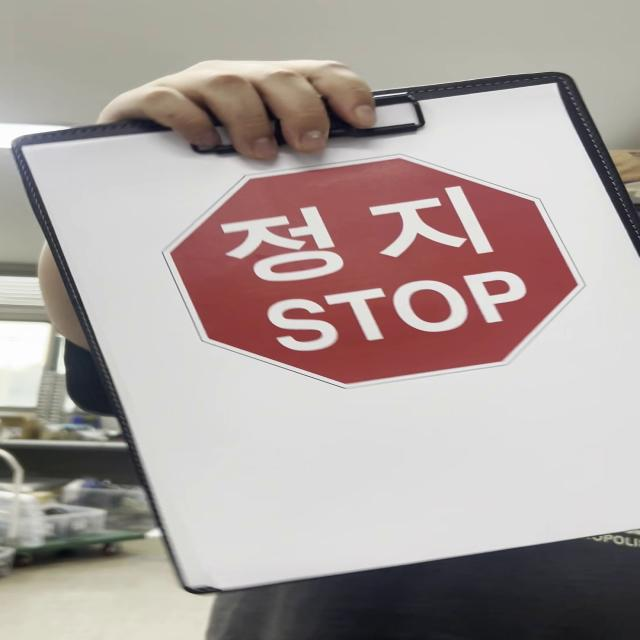stop: (158, 156, 587, 386)
